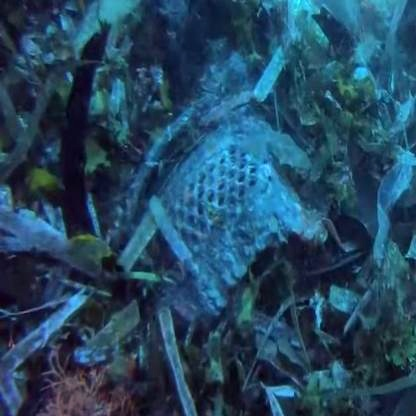misc: (149, 132, 286, 291)
